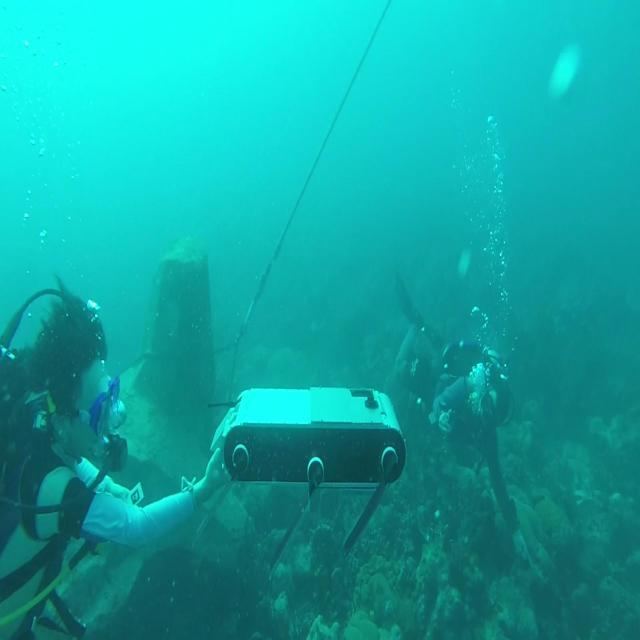human: (1, 274, 232, 638), (392, 270, 530, 568)
